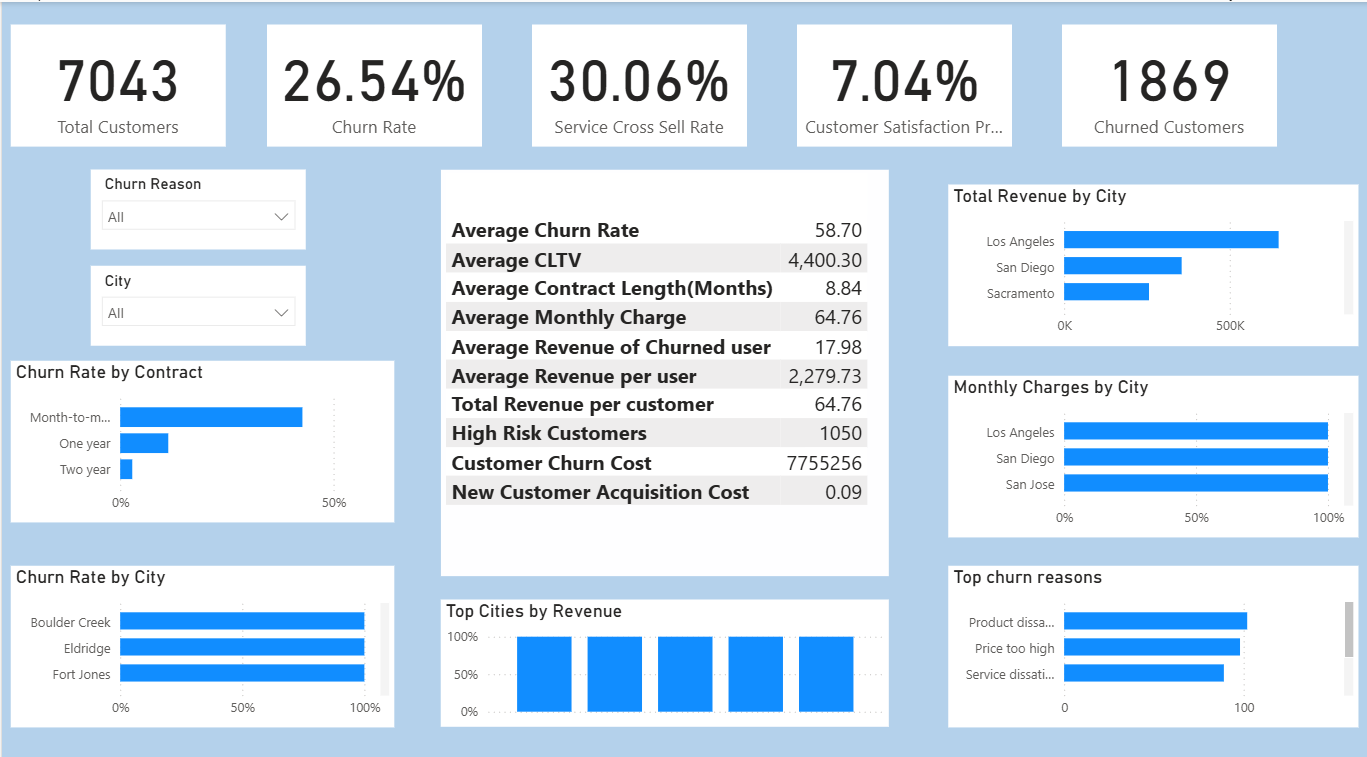

This screenshot's page, from the dashboard's own definition file:
{"tool":"powerbi","page":{"name":"Page 1","canvas":[1280,720],"ordinal":0},"visuals":[{"type":"card","fields":{"Values":["Measures for Churn.Total Customers"]},"box":[7.9,20.4,199.7,113.2],"z":0},{"type":"card","fields":{"Values":["Measures for Churn.Churned Customers"]},"box":[985.9,20.4,199.7,113.2],"z":1000},{"type":"card","fields":{"Values":["Measures for Churn.Customer Satisfaction Proxy"]},"box":[739.6,20.4,199.7,113.2],"z":2000},{"type":"card","fields":{"Values":["Measures for Churn.Service Cross Sell Rate"]},"box":[493.2,20.4,199.7,113.2],"z":3000},{"type":"card","fields":{"Values":["Measures for Churn.Churn Rate"]},"box":[246.9,20.4,199.7,113.2],"z":4000},{"type":"pivotTable","fields":{"Values":["Measures for Churn.Average Churn Rate","Measures for Churn.Average CLTV","Measures for Churn.Average Contract Length(Months)","Measures for Churn.Average Monthly Charge","Measures for Churn.Average Revenue of Churned user","Measures for Churn.Average Revenue per user","Measures for Churn.Total Revenue per customer","Measures for Churn.High Risk Customers","Measures for Churn.Customer Churn Cost","Measures for Churn.New Customer Acquisition Cost"]},"box":[408.6,155.7,417.1,378.6],"z":5000},{"type":"slicer","fields":{"Values":["Telco_Churn.Churn Reason"]},"box":[82.9,155.7,200,74.3],"z":6000},{"type":"slicer","fields":{"Values":["Telco_Churn.City"]},"box":[82.9,245.7,200,74.3],"z":7000},{"type":"barChart","fields":{"Category":["Telco_Churn.Contract"],"Y":["Measures for Churn.Churn Rate"]},"box":[8.6,334.3,357.1,150],"z":8000},{"type":"clusteredBarChart","fields":{"Y":["Measures for Churn.Churn Rate"],"Category":["Telco_Churn.City"]},"box":[8.6,524.3,357.1,150],"z":9000},{"type":"clusteredBarChart","fields":{"Y":["Measures for Churn.Total Revenue"],"Category":["Telco_Churn.City"]},"box":[880,170,381.4,150],"z":10000},{"type":"hundredPercentStackedBarChart","fields":{"Category":["Telco_Churn.City"],"Y":["Measures for Churn.Monthly Charges"]},"box":[880,347.1,381.4,150],"z":11000},{"type":"clusteredBarChart","title":"Top churn reasons","fields":{"Y":["Measures for Churn.Churned Customers"],"Category":["Telco_Churn.Churn Reason"]},"box":[880,524.3,381.4,150],"z":11001},{"type":"hundredPercentStackedColumnChart","title":"Top Cities by Revenue","fields":{"Y":["Measures for Churn.Total Revenue"],"Category":["Telco_Churn.City"]},"box":[408.6,555.7,417.1,118.6],"z":11002}]}

Visuals, with their boxes in screenshot pixels (x1, y1, x2, y2), scaled from the page's 1280x720 canvas onto the 1367x757 screenshot:
card - Measures for Churn.Total Customers: rect(8, 21, 222, 140)
card - Measures for Churn.Churned Customers: rect(1053, 21, 1266, 140)
card - Measures for Churn.Customer Satisfaction Proxy: rect(790, 21, 1003, 140)
card - Measures for Churn.Service Cross Sell Rate: rect(527, 21, 740, 140)
card - Measures for Churn.Churn Rate: rect(264, 21, 477, 140)
pivotTable - Measures for Churn.Average Churn Rate x Measures for Churn.Average CLTV: rect(436, 164, 882, 562)
slicer - Telco_Churn.Churn Reason: rect(89, 164, 302, 242)
slicer - Telco_Churn.City: rect(89, 258, 302, 336)
barChart - Telco_Churn.Contract x Measures for Churn.Churn Rate: rect(9, 351, 391, 509)
clusteredBarChart - Measures for Churn.Churn Rate x Telco_Churn.City: rect(9, 551, 391, 709)
clusteredBarChart - Measures for Churn.Total Revenue x Telco_Churn.City: rect(940, 179, 1347, 336)
hundredPercentStackedBarChart - Telco_Churn.City x Measures for Churn.Monthly Charges: rect(940, 365, 1347, 523)
"Top churn reasons" clusteredBarChart: rect(940, 551, 1347, 709)
"Top Cities by Revenue" hundredPercentStackedColumnChart: rect(436, 584, 882, 709)
